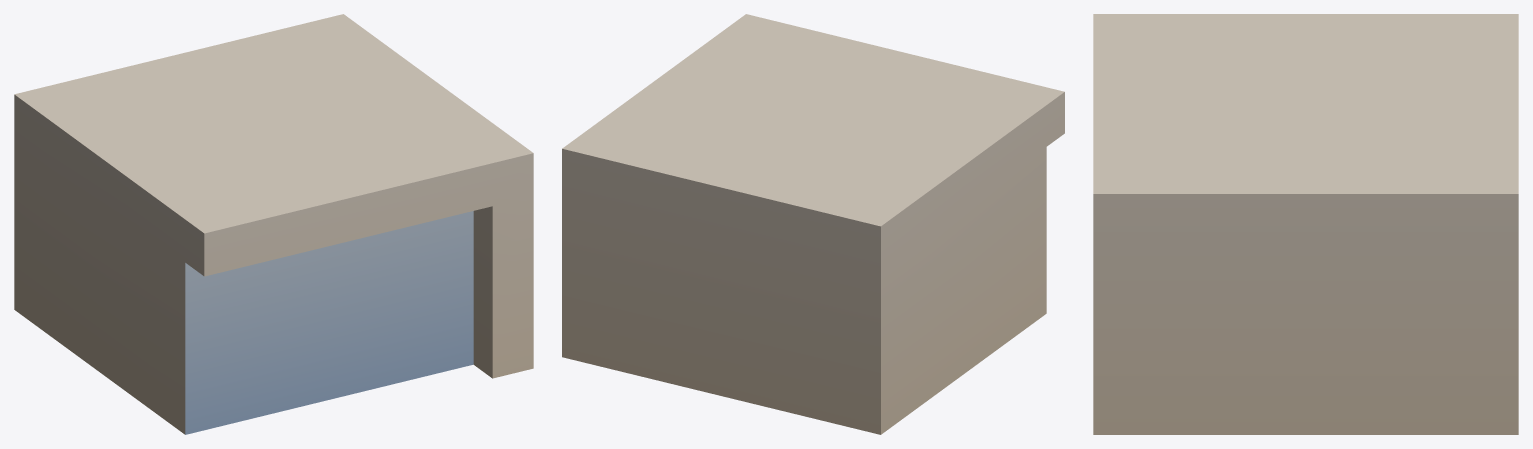
The model's file is building-window-large-right.glb.
3 renders of one model, left to right at view 1: azimuth 30°, elevation 25°; view 2: azimuth 150°, elevation 25°; view 3: azimuth 270°, elevation 25°, orthographic. The views are drawn at different scales.
Visible parts, largest first — view 1: building-window-large-right; view 2: building-window-large-right; view 3: building-window-large-right.
Boxes of the visible parts, box(x1,y1,x2,y2) form: building-window-large-right: box(14, 14, 533, 434); building-window-large-right: box(562, 14, 1064, 434); building-window-large-right: box(1093, 14, 1518, 434).
Size of the model in its own units: 1 by 0.625 by 1.
